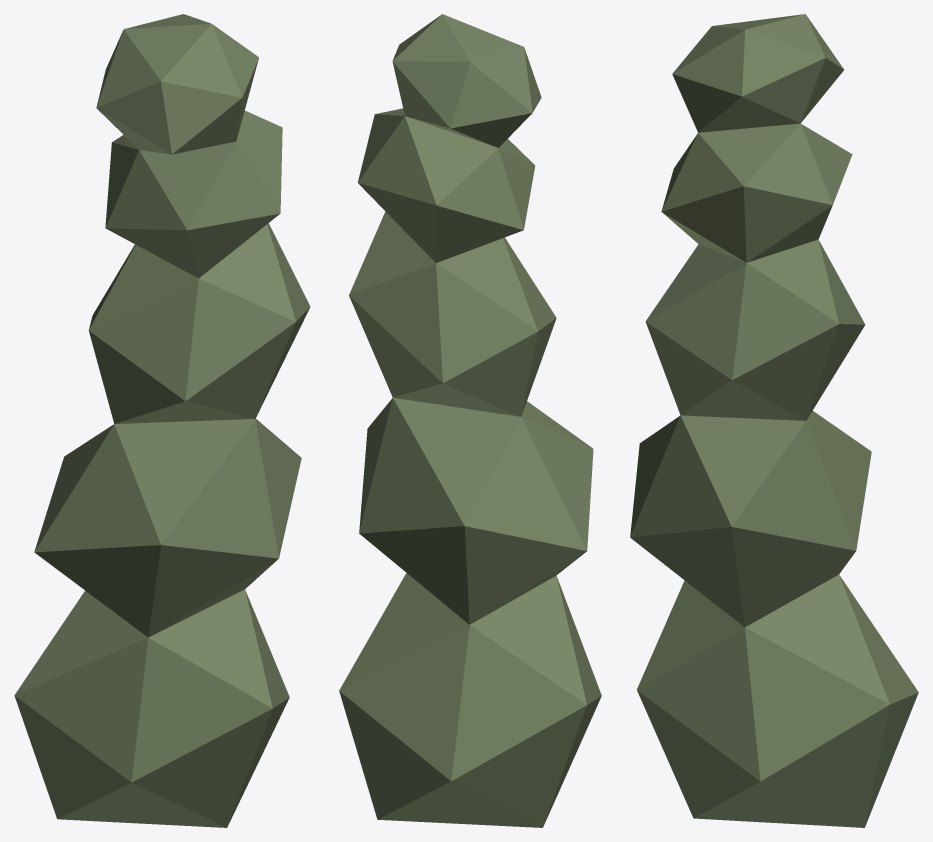
File: DyingVegetationFloorMediumBubbleTree1.fbx
3 renders of one model, left to right at view 1: azimuth 30°, elevation 25°; view 2: azimuth 150°, elevation 25°; view 3: azimuth 270°, elevation 25°, orthographic. The views are drawn at different scales.
Parts seen in each view (by area): view 1: DyingVegetationFloorMediumBubbleTree1; view 2: DyingVegetationFloorMediumBubbleTree1; view 3: DyingVegetationFloorMediumBubbleTree1.
Boxes of the visible parts, left/top/right/bottom form: DyingVegetationFloorMediumBubbleTree1: left=14, top=14, right=310, bottom=827; DyingVegetationFloorMediumBubbleTree1: left=339, top=14, right=601, bottom=827; DyingVegetationFloorMediumBubbleTree1: left=630, top=14, right=918, bottom=827.
Size of the model in its own units: 193 by 545 by 179.
